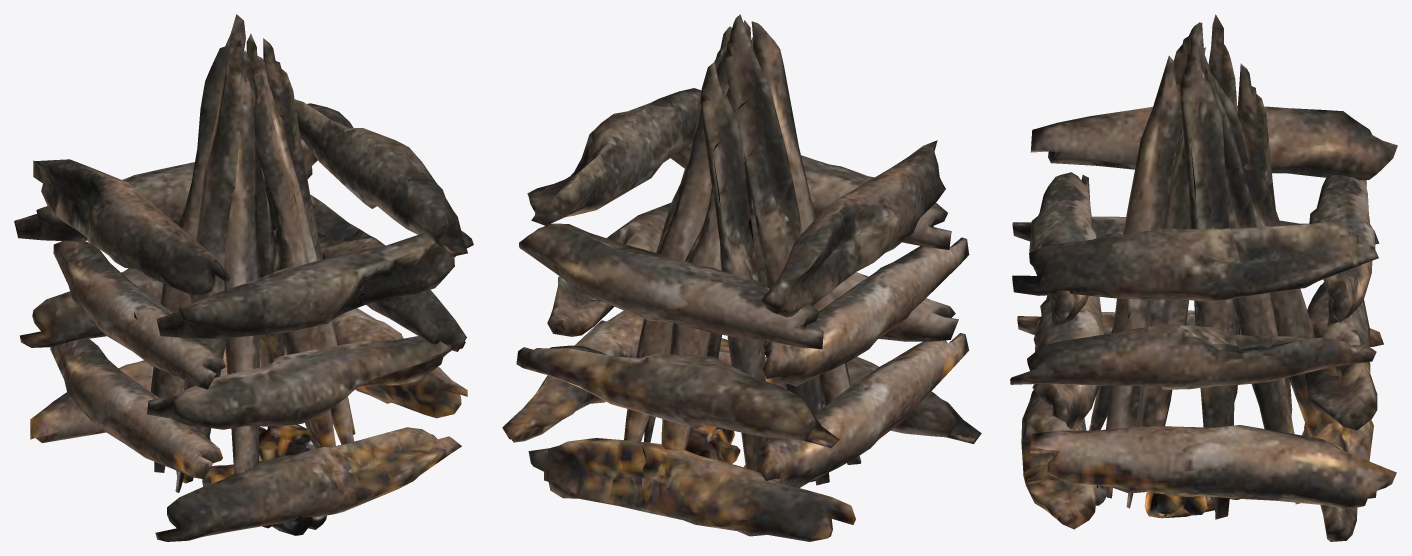
The model's file is foguera_P4_pira.glb.
3 views of the same model, side by side, from view 1: azimuth 30°, elevation 25°; view 2: azimuth 150°, elevation 25°; view 3: azimuth 270°, elevation 25° (orthographic). The views are drawn at different scales.
Visible parts, largest first — view 1: foguera_P4_pira; view 2: foguera_P4_pira; view 3: foguera_P4_pira.
Boxes of the visible parts, bbox=[...] form: foguera_P4_pira: bbox=[14, 14, 473, 541]; foguera_P4_pira: bbox=[502, 14, 981, 541]; foguera_P4_pira: bbox=[1010, 14, 1397, 541].
Bounding box in the file's own units: 1.22 × 1.67 × 1.22.
1 material, 1 textured.
